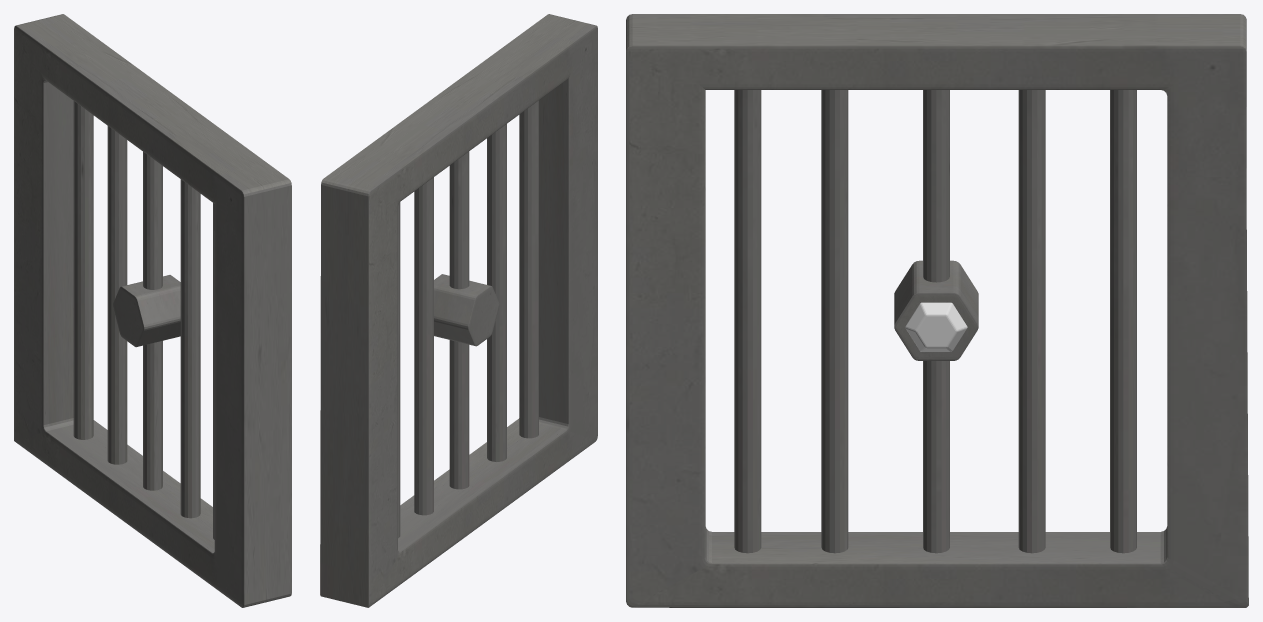
The model's file is oneButtonGate.fbx.
The picture shows the model from 3 angles, left to right: view 1: azimuth 30°, elevation 25°; view 2: azimuth 150°, elevation 25°; view 3: azimuth 270°, elevation 25°; orthographic projection. The views are drawn at different scales.
Parts seen in each view (by area): view 1: Cube; view 2: Cube; view 3: Cube, Cylinder.
Boxes of the visible parts, <box> form: Cube: <box>14,14,291,607</box>; Cube: <box>320,14,597,607</box>; Cube: <box>626,14,1248,607</box>; Cylinder: <box>905,302,967,351</box>.
Bounding box in the file's own units: 110 × 783 × 786.
